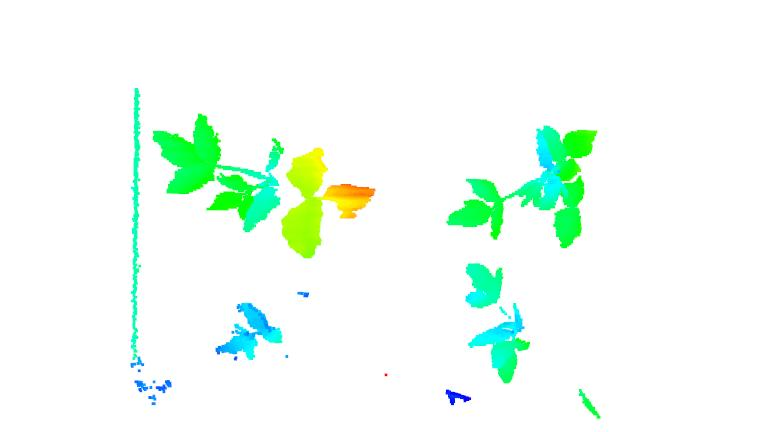mungbean: (149, 115, 379, 259), (445, 121, 606, 242), (453, 250, 530, 384), (212, 297, 286, 369)
